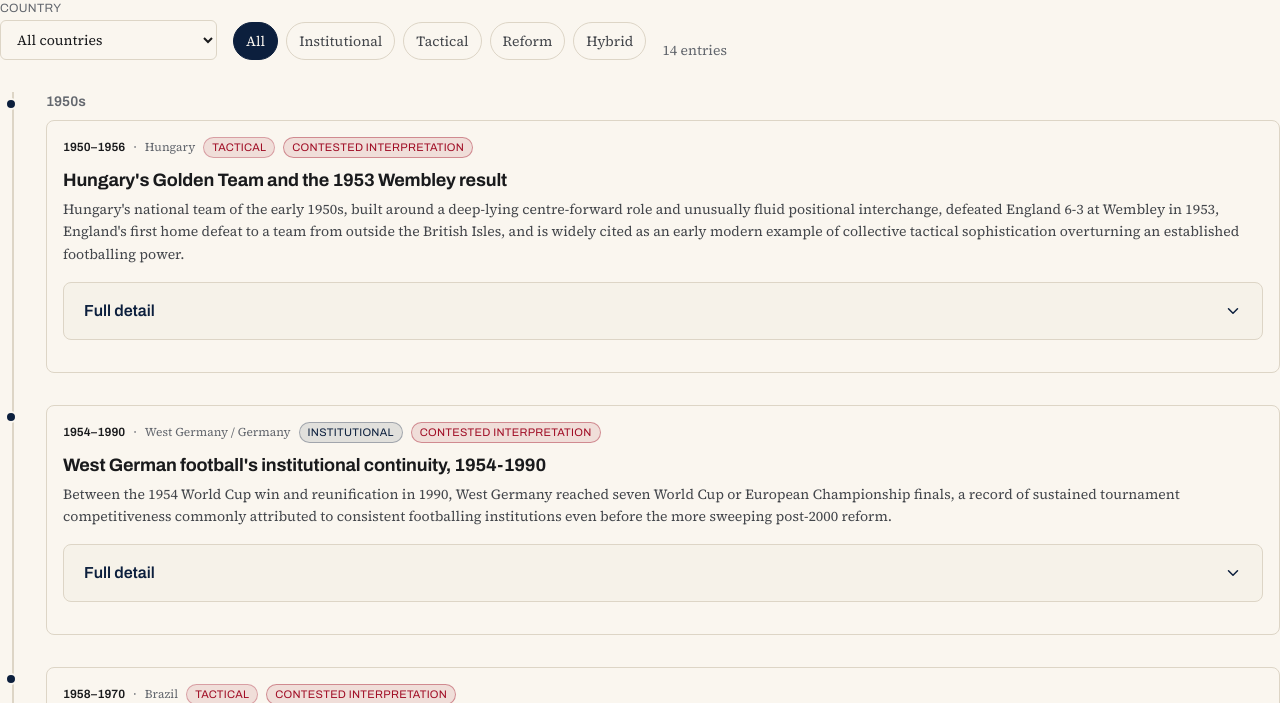
Scenario: Timeline › expands an entry to reveal Interpretation and Measurable evidence
Click the heading "Full detail" below "1950–1956" at (119, 310), box [84,302,1242,320]
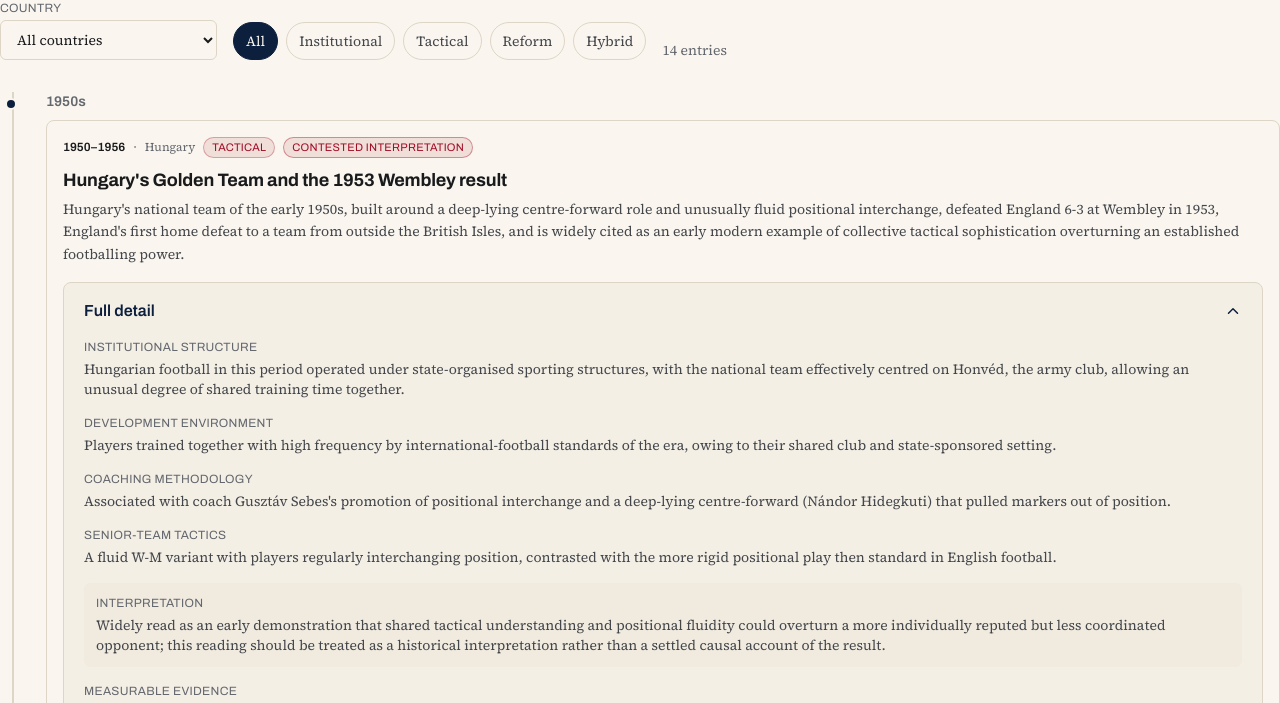
Expected: the text "Contested interpretation" is shown, [283,137,473,158]
Expected: the text "Measurable evidence" is shown, [84,684,237,698]
